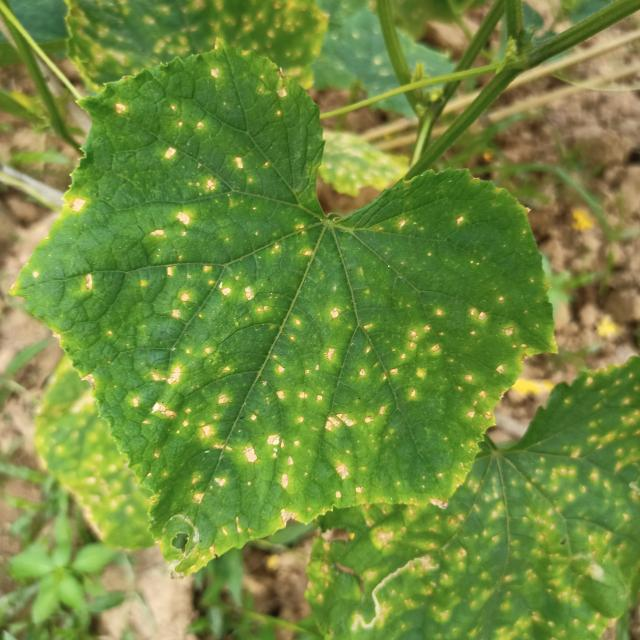disease_cucumber: (62, 195, 538, 512), (154, 63, 293, 193), (113, 100, 132, 121)
